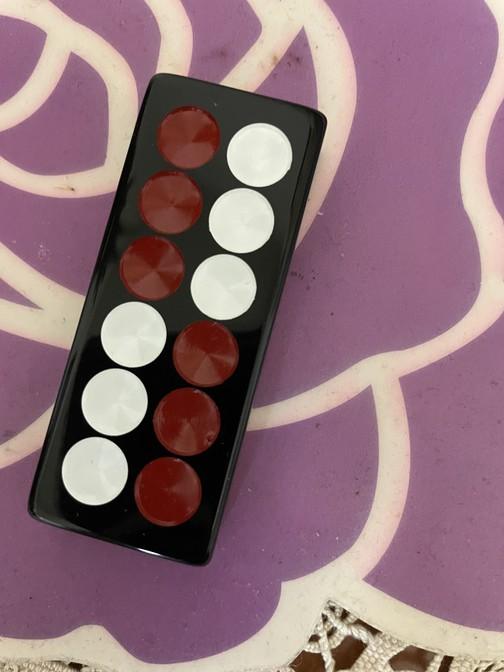heaven: (30, 74, 329, 568)
